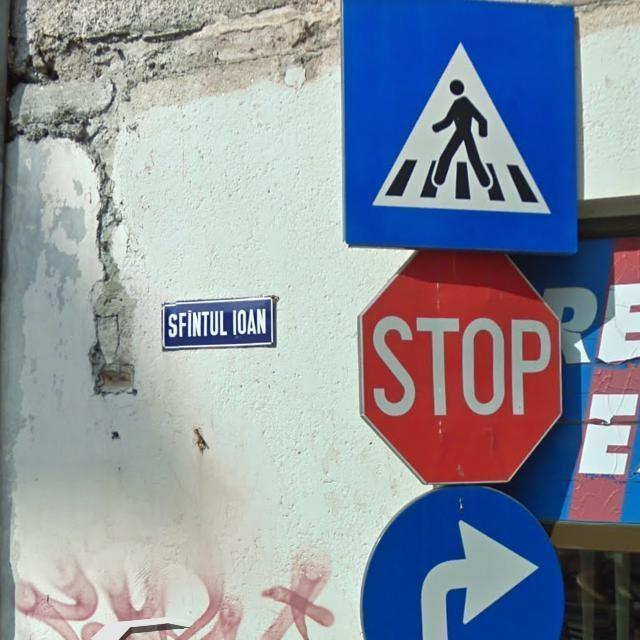info_crosswalk: (342, 0, 581, 250)
prio_stop: (359, 248, 563, 484)
